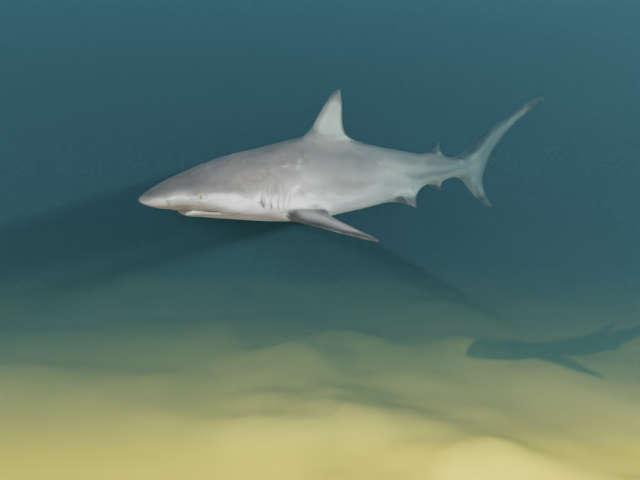Carribean Shark.001: (138, 89, 544, 241)
